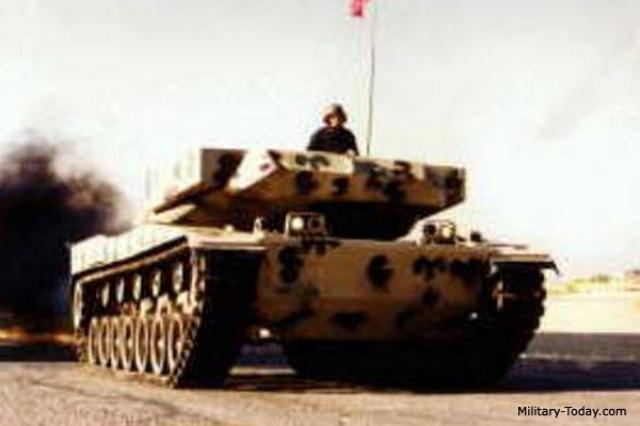other: (310, 89, 358, 146)
tank: (65, 150, 552, 379)
